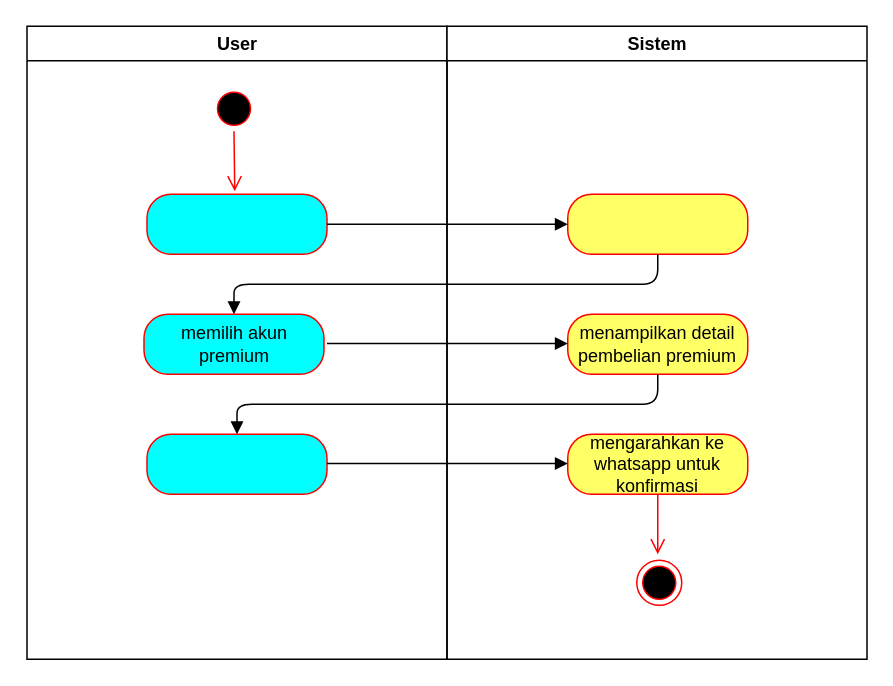
This 893x686 diagram has some shape labels left out. The shapes that lost their labels are listed below. From the top down, each one's box as (x1, y1, x2, y2) in pixels, then its label:
(146, 193, 327, 254): login
(566, 193, 748, 254): menampilkan halaman login
(146, 433, 327, 494): konfirmasi
